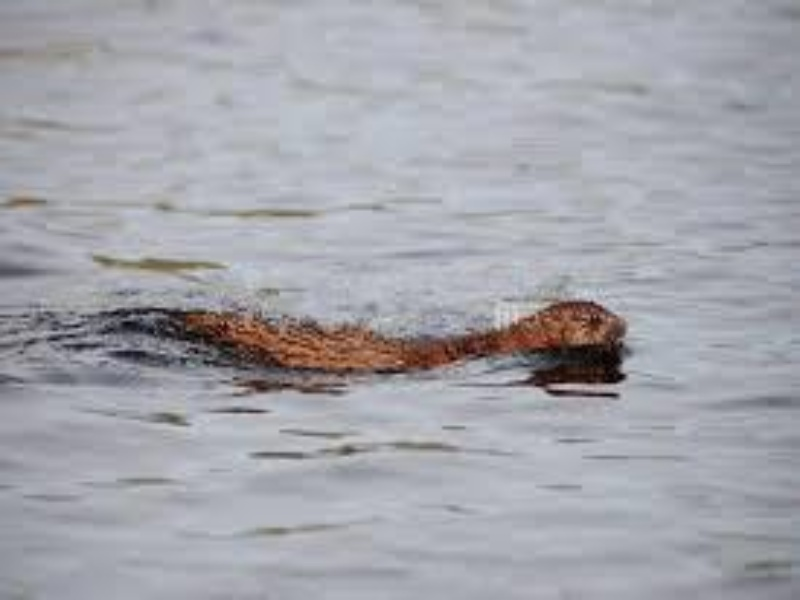minkish: (72, 291, 633, 385)
